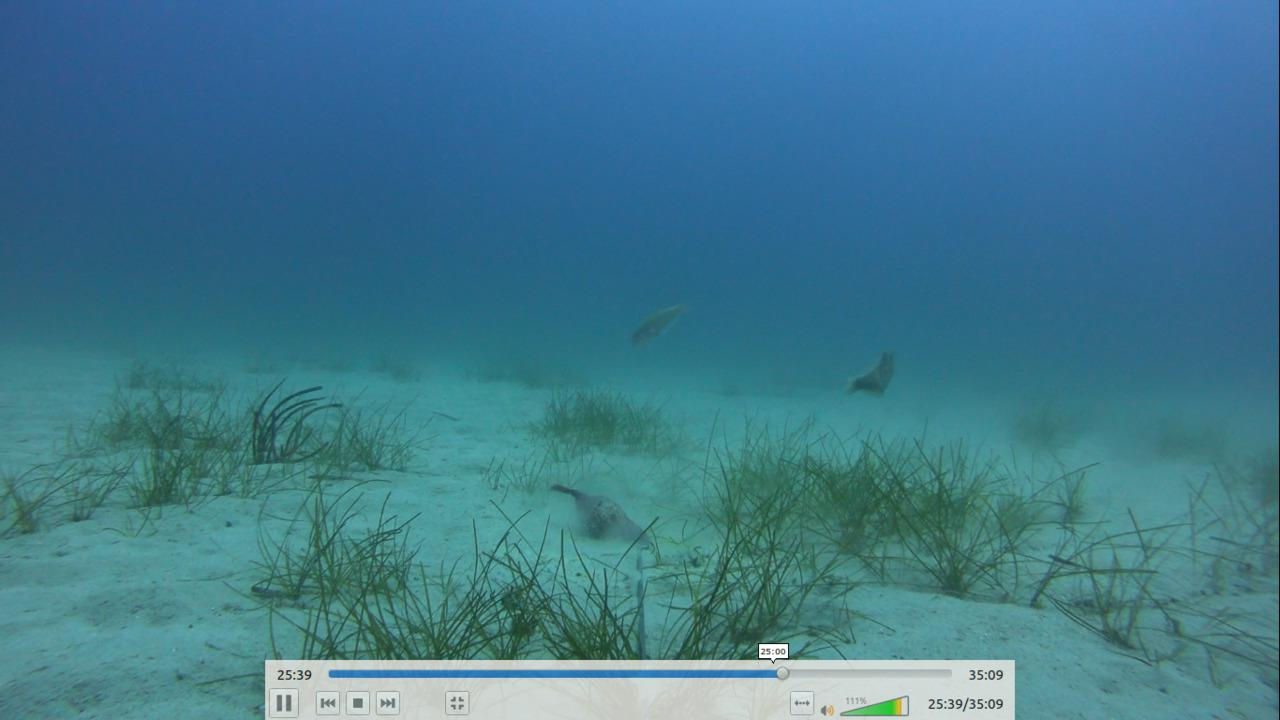raor: (625, 298, 689, 345), (842, 345, 899, 395)
